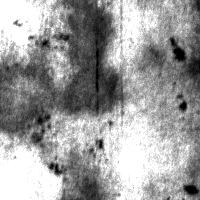patches: (59, 1, 117, 114), (140, 33, 200, 137), (1, 62, 55, 133), (64, 155, 112, 200), (165, 35, 190, 64), (32, 109, 53, 136), (46, 156, 64, 179), (181, 179, 200, 199), (175, 91, 190, 113)
